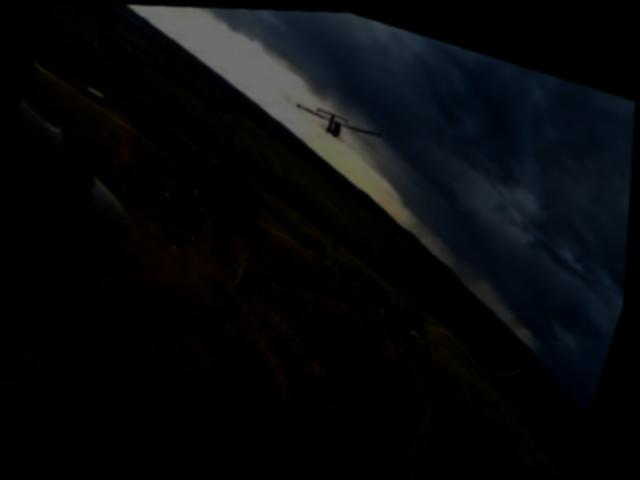uav: (288, 93, 392, 151)
